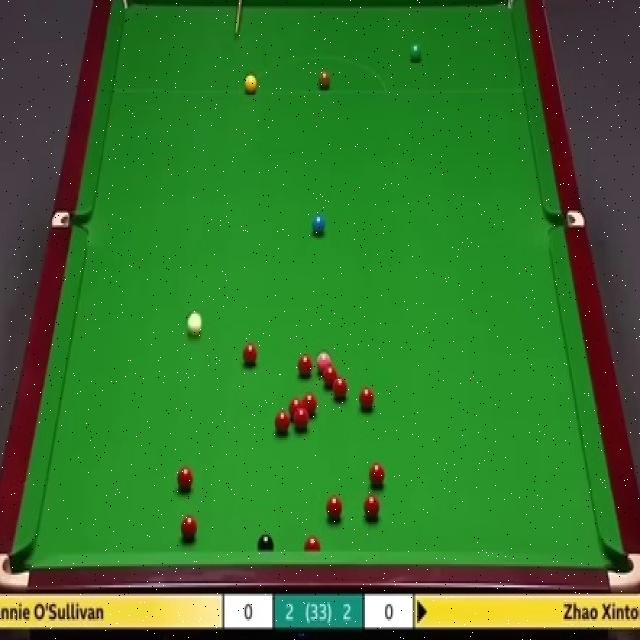black-ball: (256, 532, 275, 551)
blue-ball: (311, 216, 326, 233)
brown-ball: (318, 71, 332, 95)
green-ball: (410, 42, 422, 58)
pink-ball: (316, 352, 332, 372)
red-ball: (179, 514, 198, 540), (302, 392, 319, 420), (327, 492, 342, 522), (369, 462, 385, 490), (274, 410, 290, 436), (178, 466, 195, 490), (364, 496, 380, 519), (243, 342, 257, 368), (294, 409, 309, 431), (358, 389, 374, 408), (333, 379, 346, 402), (297, 354, 311, 375), (323, 365, 337, 386), (289, 399, 303, 419), (304, 536, 321, 550)
white-ball: (185, 312, 201, 335)
yellow-ball: (245, 74, 258, 95)
